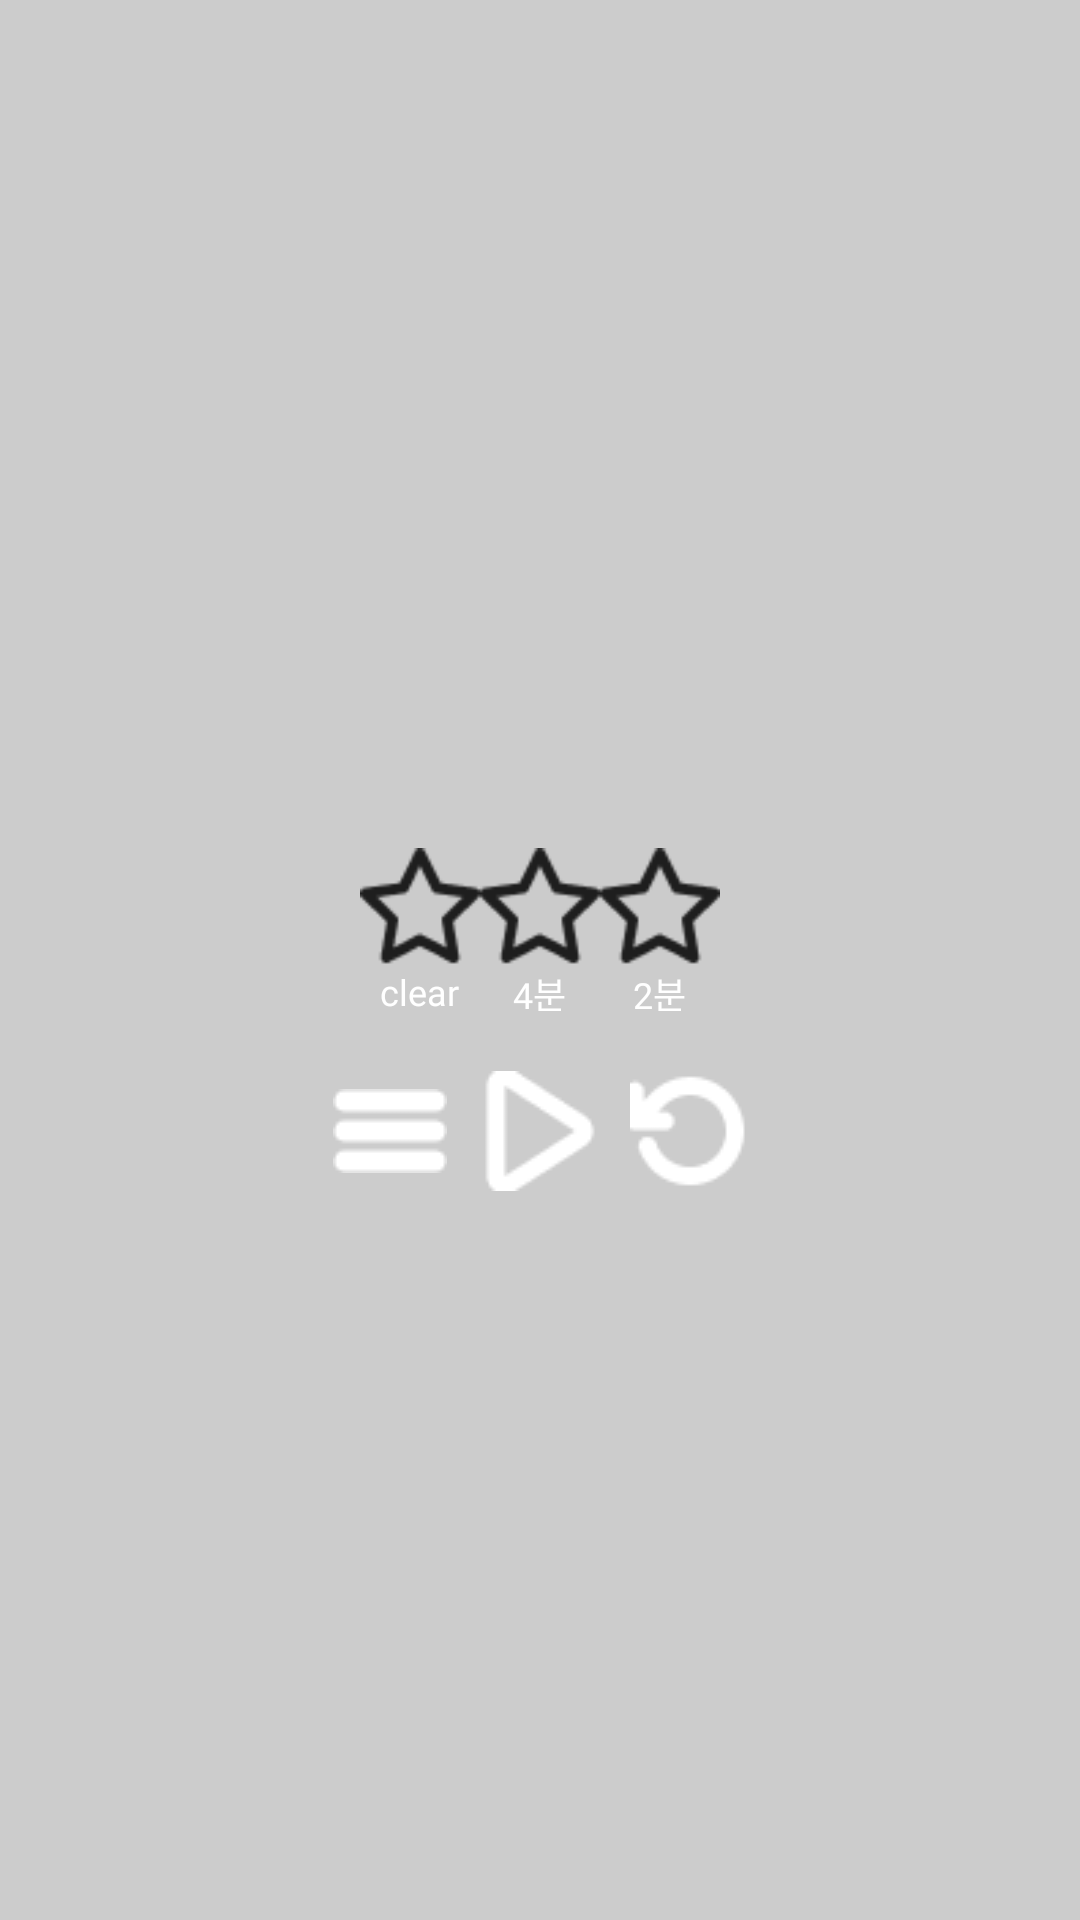

Where icons sit on this 1080 x 1920 app screen, as (x1, y1, x2, y2):
menu: (335, 1089, 445, 1173)
play: (487, 1071, 593, 1191)
retry: (630, 1077, 744, 1185)
star: (360, 848, 480, 964), (480, 848, 600, 964), (600, 848, 720, 964)
